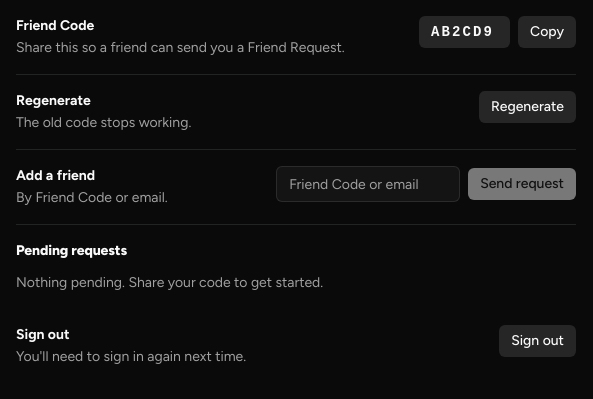
Test: Settings › shows an inline error next to Send when the request fails, not a toast
Check: the text "AB2CD9" is shown, box [419,16,510,48]
In the field labelled "Friend Code or email": (368, 184) [276,166,460,202], type "NOCODE1"
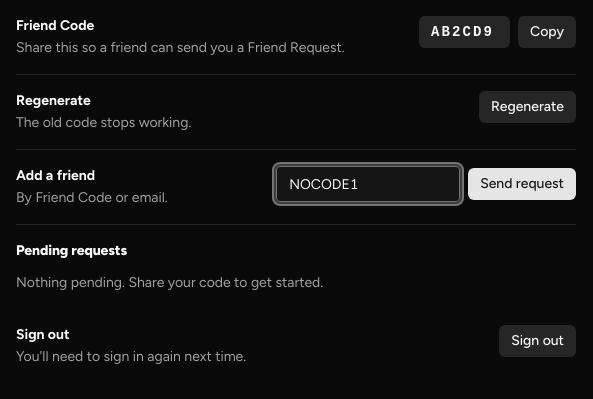
Click the button "Send request": (522, 184) [468,168,576,200]
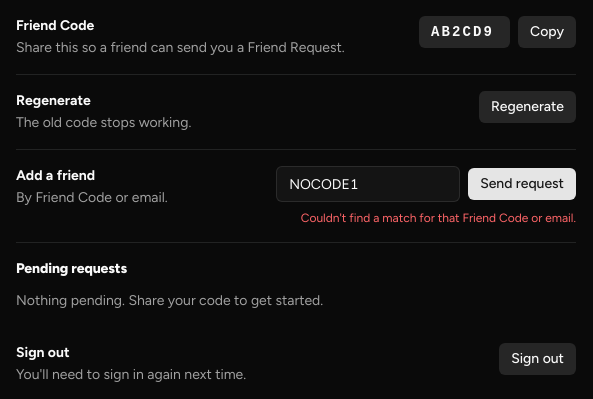
Check: the message shows "Couldn't find a match", box [301,211,576,225]
